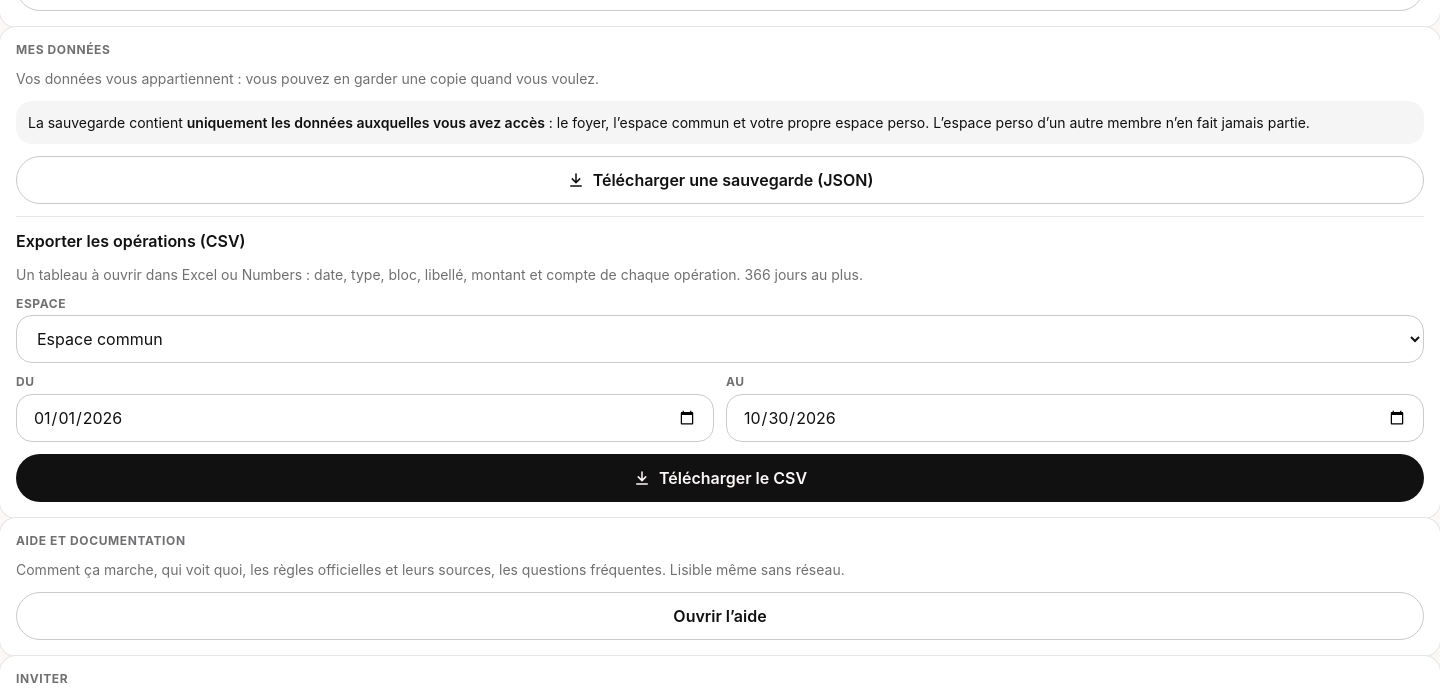
FoyerPage « Mes données » › CSV export › refuses a reversed period and missing dates, field by field
(page scrolled)
Type "2026-10-30" into the date field labelled "Du".
click(365, 418); type("2026-10-30")  # box [16, 394, 714, 442]
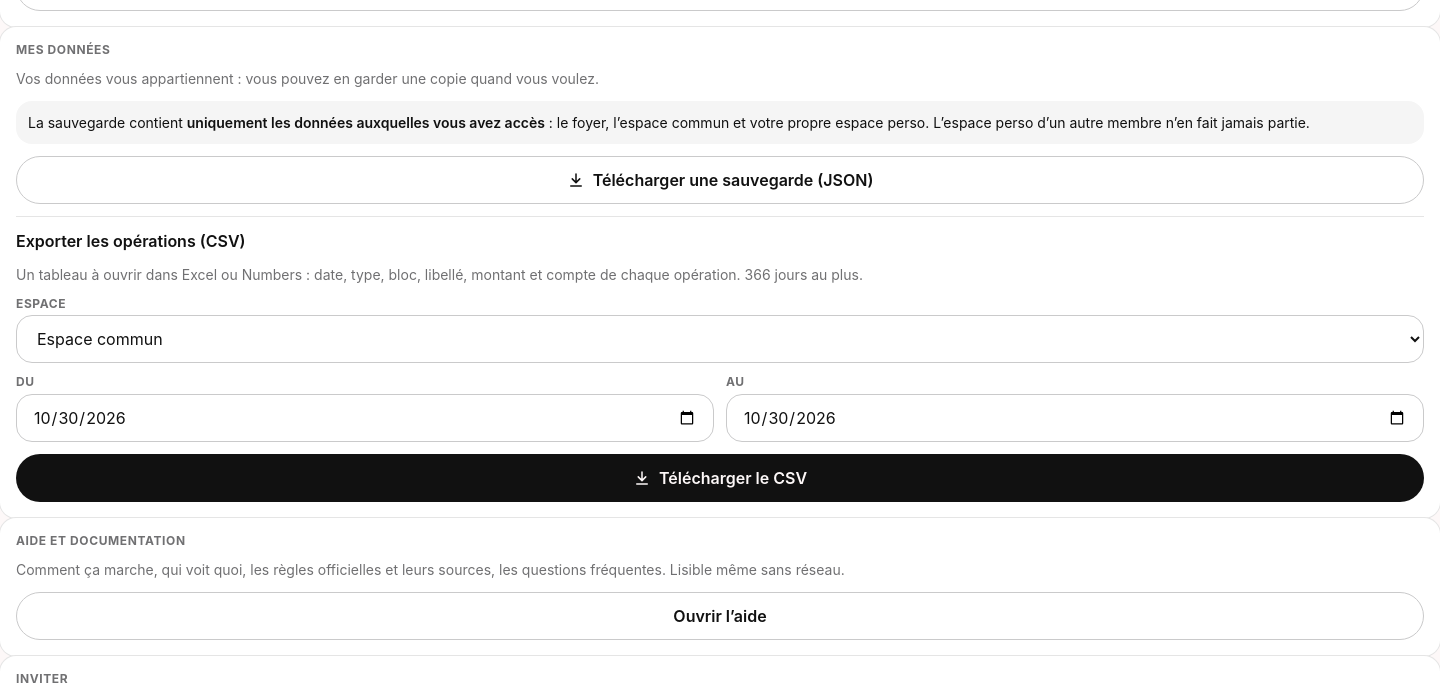
Type "2026-10-01" into the date field labelled "Au".
click(1075, 418); type("2026-10-01")  # box [726, 394, 1424, 442]
(page scrolled)
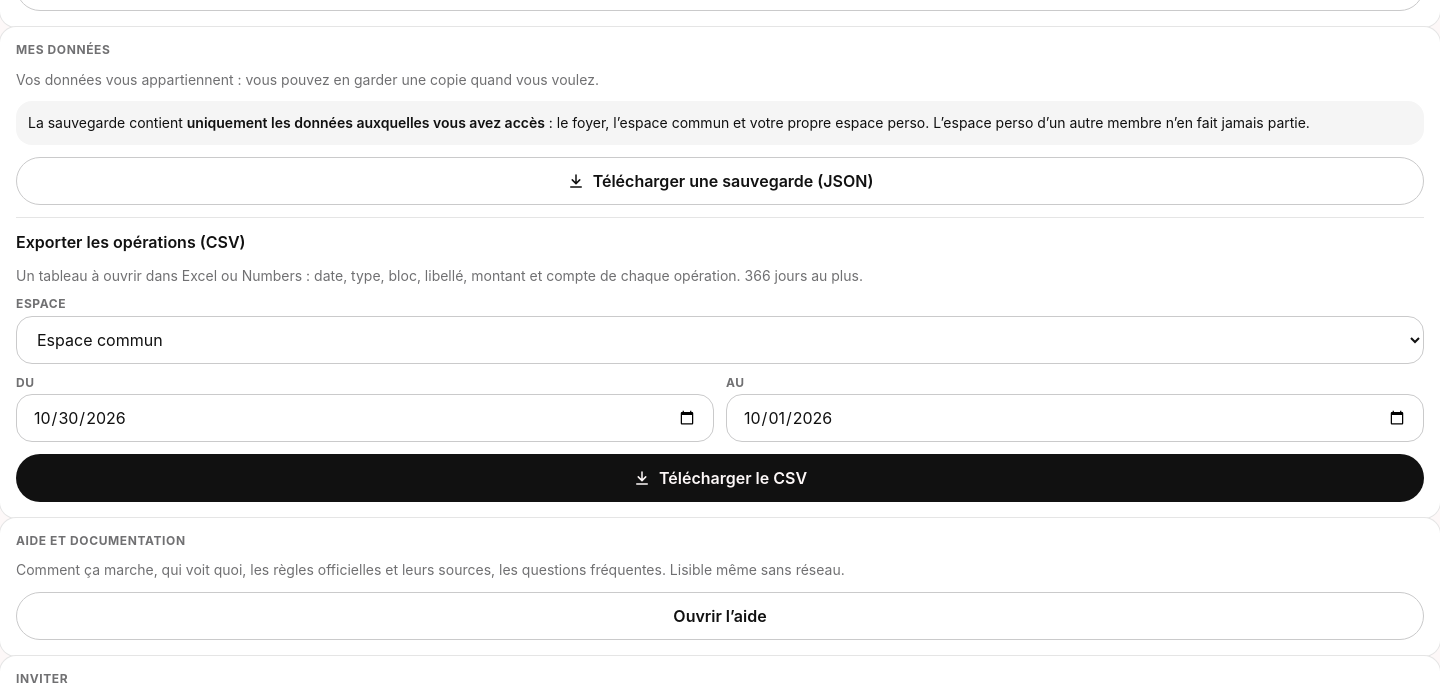
Click the button "Télécharger le CSV".
click(720, 478)  # box [16, 454, 1424, 502]
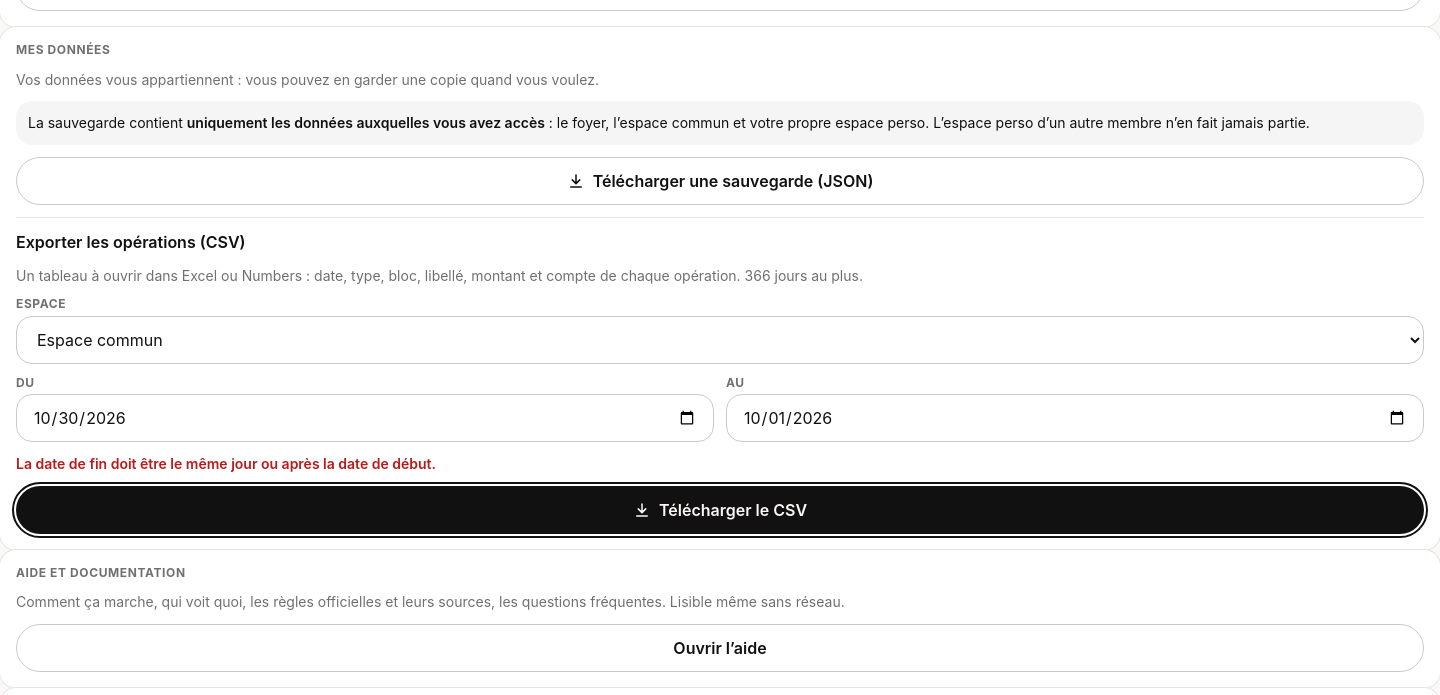
Result: the message reads "La date de fin doit être le même jour ou après la date de début." at [16, 455, 436, 472]
Clear the date field labelled "Du" at (365, 418), box [16, 394, 714, 442]
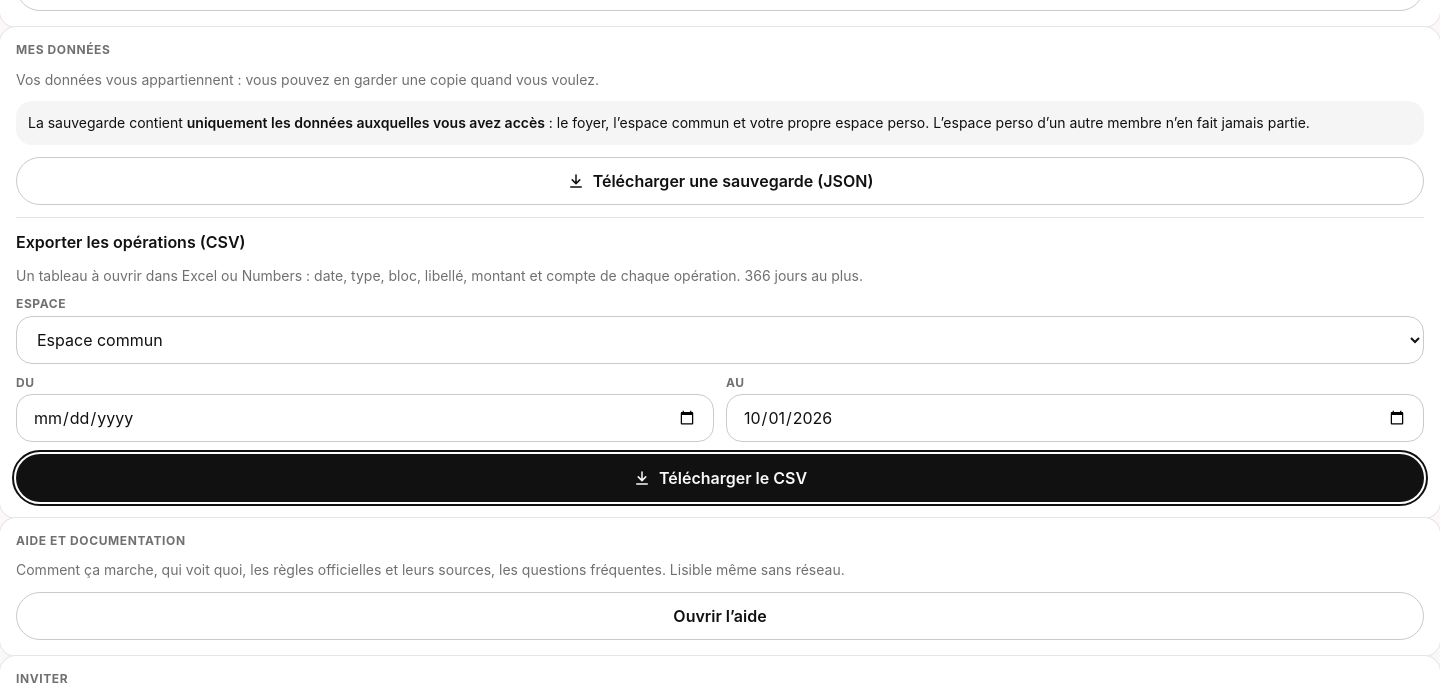
Click the button "Télécharger le CSV".
click(720, 478)  # box [16, 454, 1424, 502]
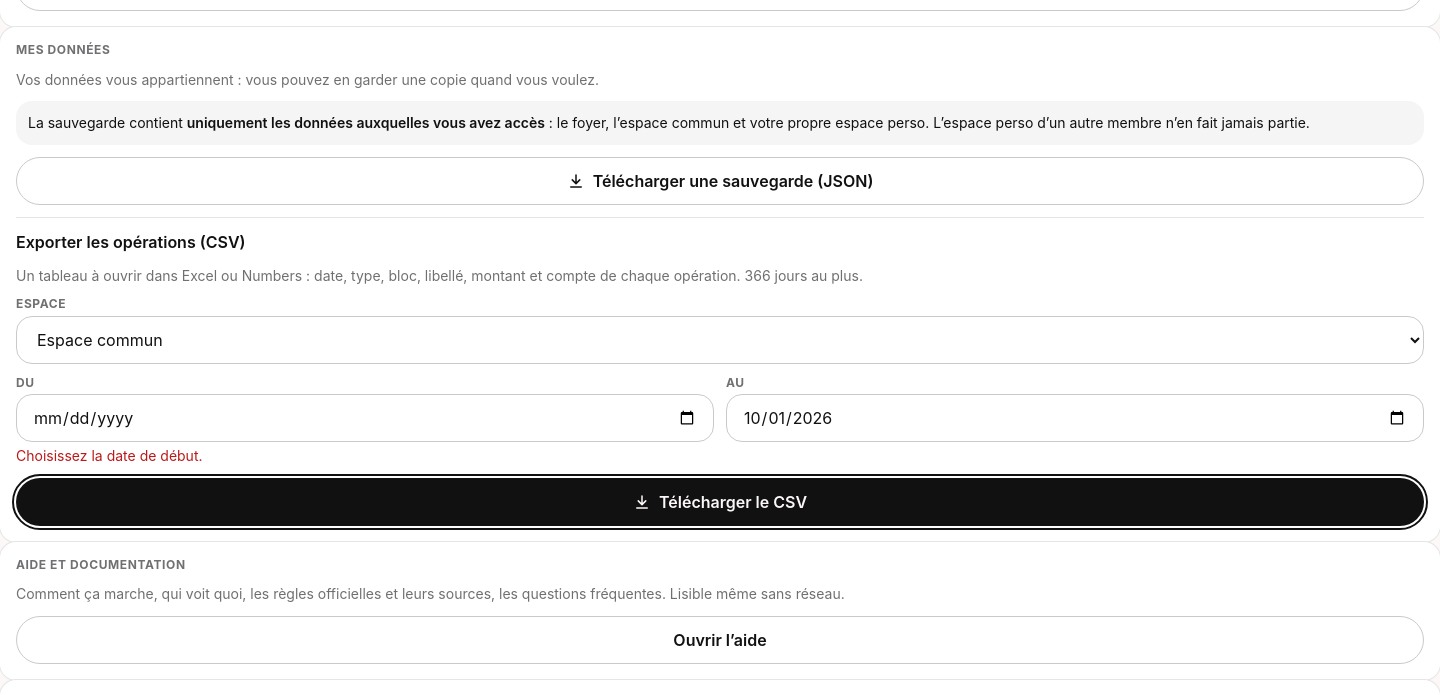
Expected: the form "Exporter les opérations (CSV)" is shown, [16, 217, 1424, 526]
Result: the text "Choisissez la date de début." is shown at [16, 447, 202, 464]
